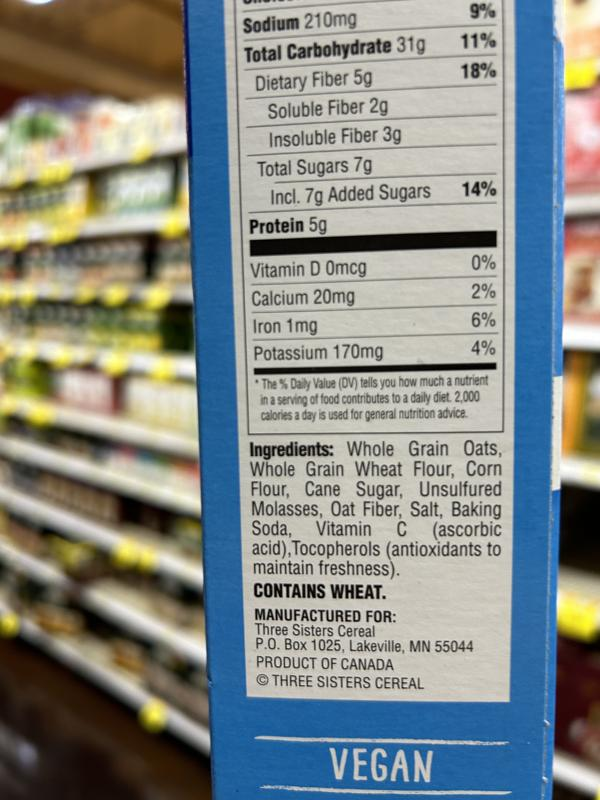ingredients: (246, 437, 507, 578)
